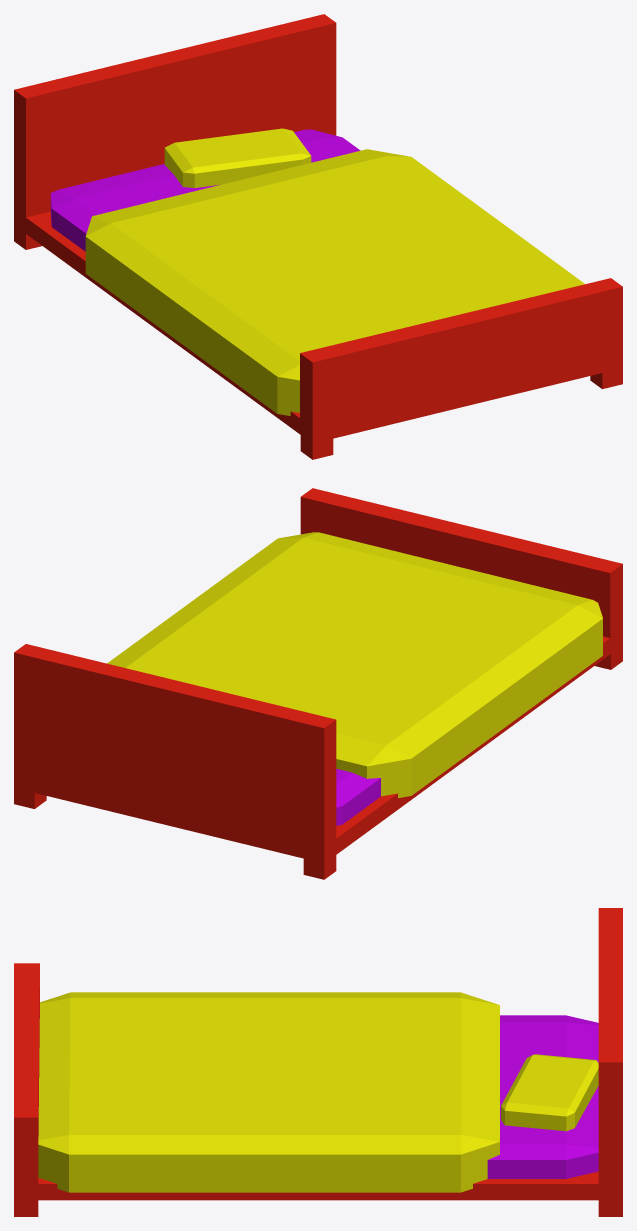
The model's file is Bed.fbx.
3 views of the same model, one above another, from view 1: azimuth 30°, elevation 25°; view 2: azimuth 150°, elevation 25°; view 3: azimuth 270°, elevation 25° (orthographic).
Visible parts, largest first — view 1: Cube, Cube.003, Cube.001, Cube.002; view 2: Cube.003, Cube, Cube.001; view 3: Cube.003, Cube, Cube.001, Cube.002.
Boxes of the visible parts, x1,y1,x2,y2 form: Cube: (14,14,622,459); Cube.003: (85,149,584,415); Cube.001: (50,129,360,251); Cube.002: (164,128,311,187); Cube.003: (107,532,602,798); Cube: (14,488,622,879); Cube.001: (336,769,380,825); Cube.003: (38,992,499,1192); Cube: (14,908,622,1216); Cube.001: (487,1015,598,1178); Cube.002: (501,1054,598,1131).
Bounding box in the file's own units: 315 × 140 × 500.
